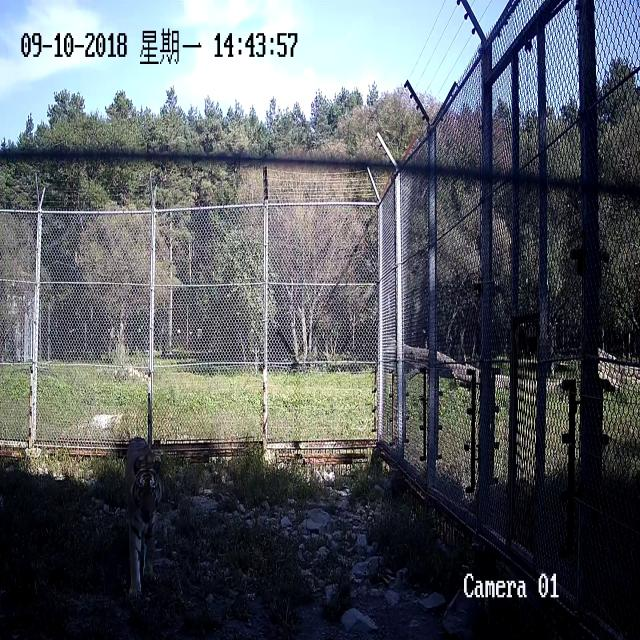Tiger: (110, 426, 194, 596)
